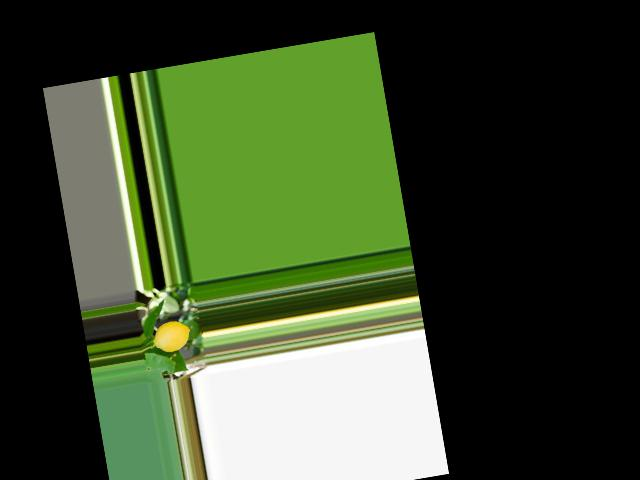lemon: (149, 314, 197, 355)
